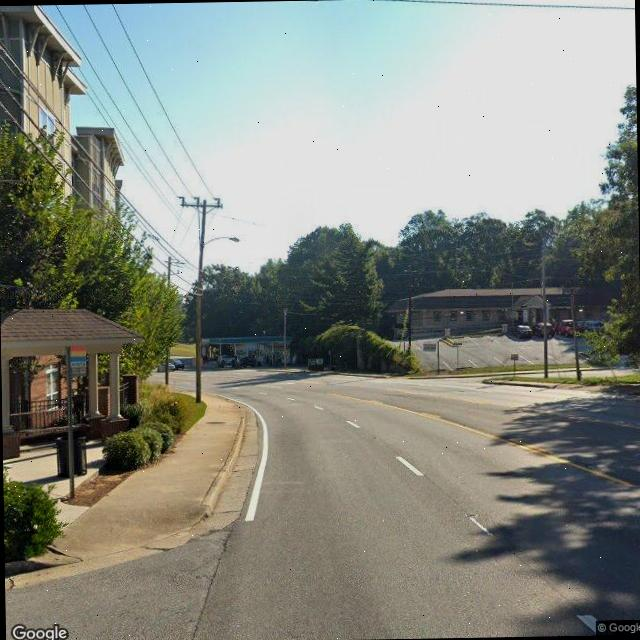seating: (10, 422, 90, 442)
shelter: (0, 306, 146, 461)
trash_can: (54, 433, 87, 478)
